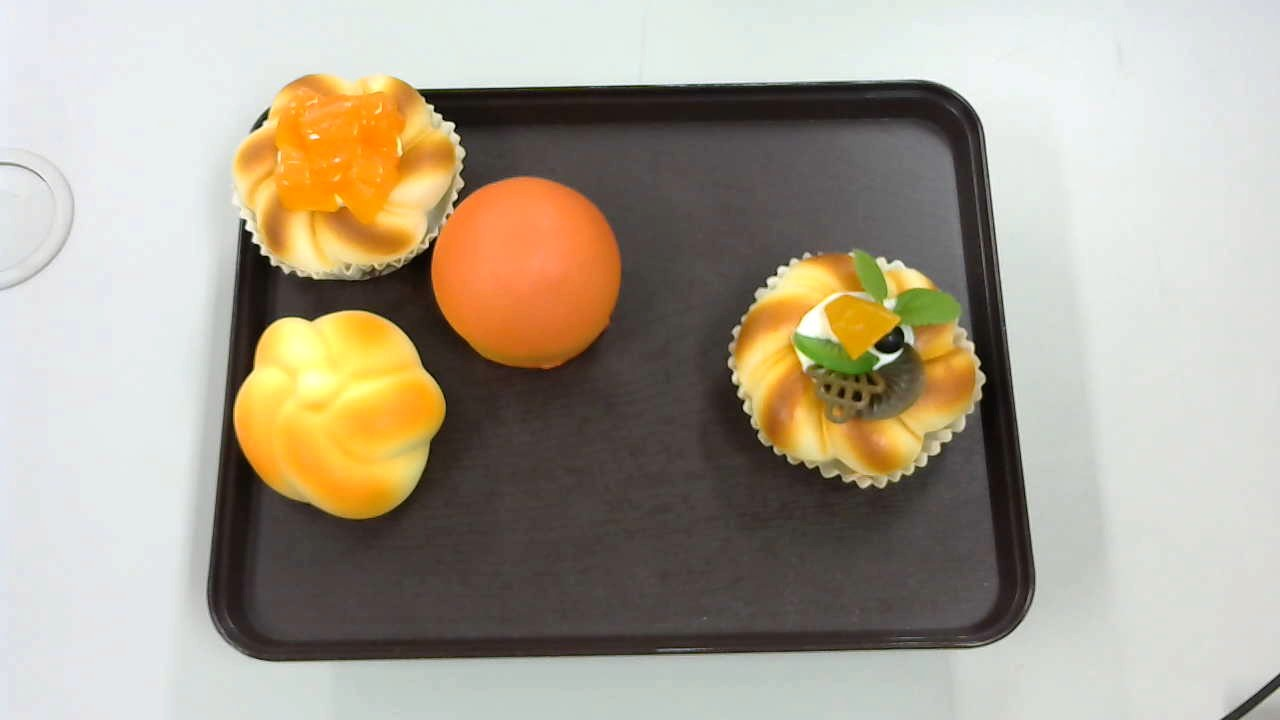bun: (432, 175, 624, 370)
fruit tart: (730, 245, 986, 489)
mango tart: (230, 73, 467, 283)
twist bread: (228, 310, 447, 521)
